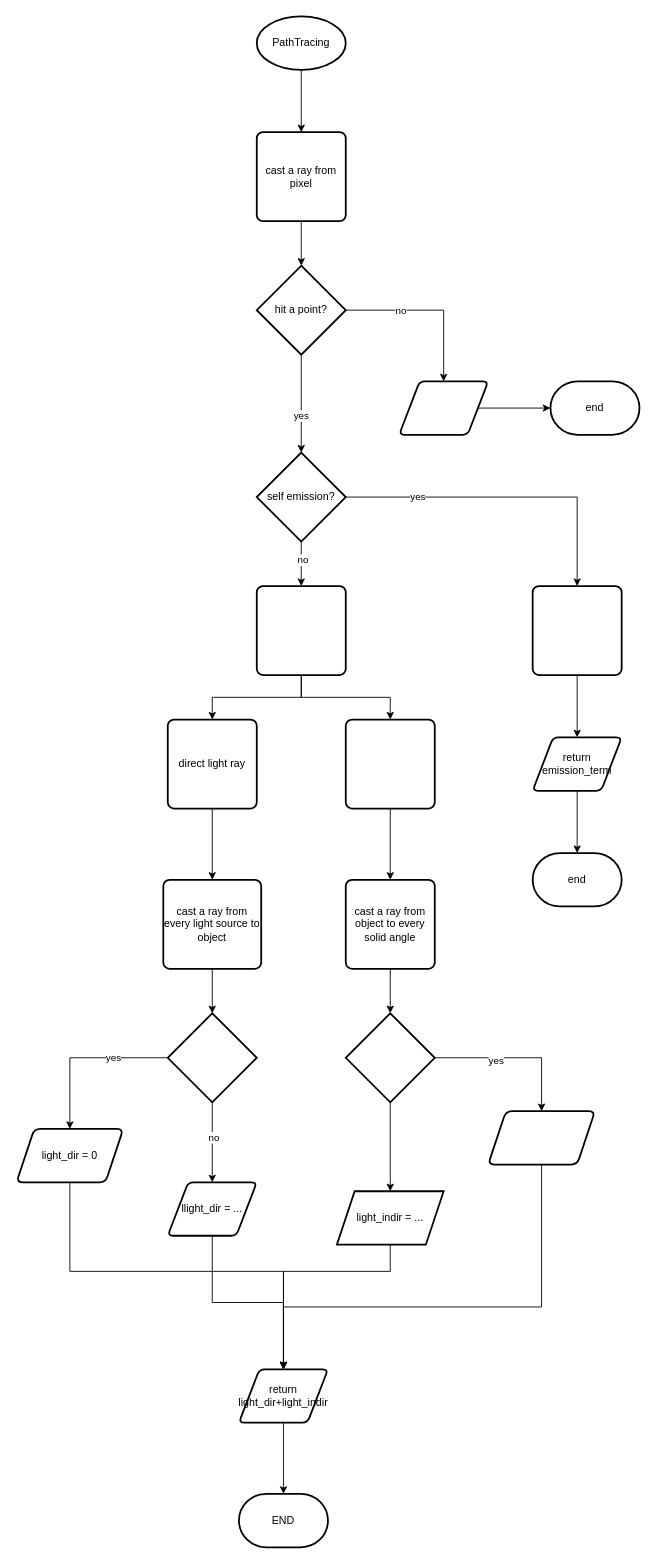
The diagram is 655 pixels wide and 1563 high, and some of its shapes have lost their labels. The shapes that lost their labels are listed below. From the top down, each one's box as (x1, y1, x2, y2) in pixels, then its label:
(398, 380, 489, 435): return none
(255, 585, 346, 676): hit an object consider direct or indirect light ray
(531, 585, 622, 676): hit a light source, and calculate the emission term
(344, 718, 435, 809): indirect light ray
(166, 1012, 257, 1103): ray blocked?
(344, 1012, 435, 1103): hit object has emission?
(487, 1110, 595, 1165): light_indir = 0
